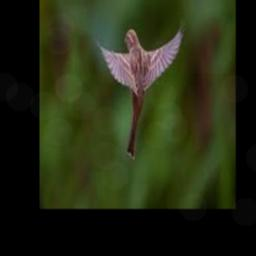Sparrow: (94, 19, 185, 159)
